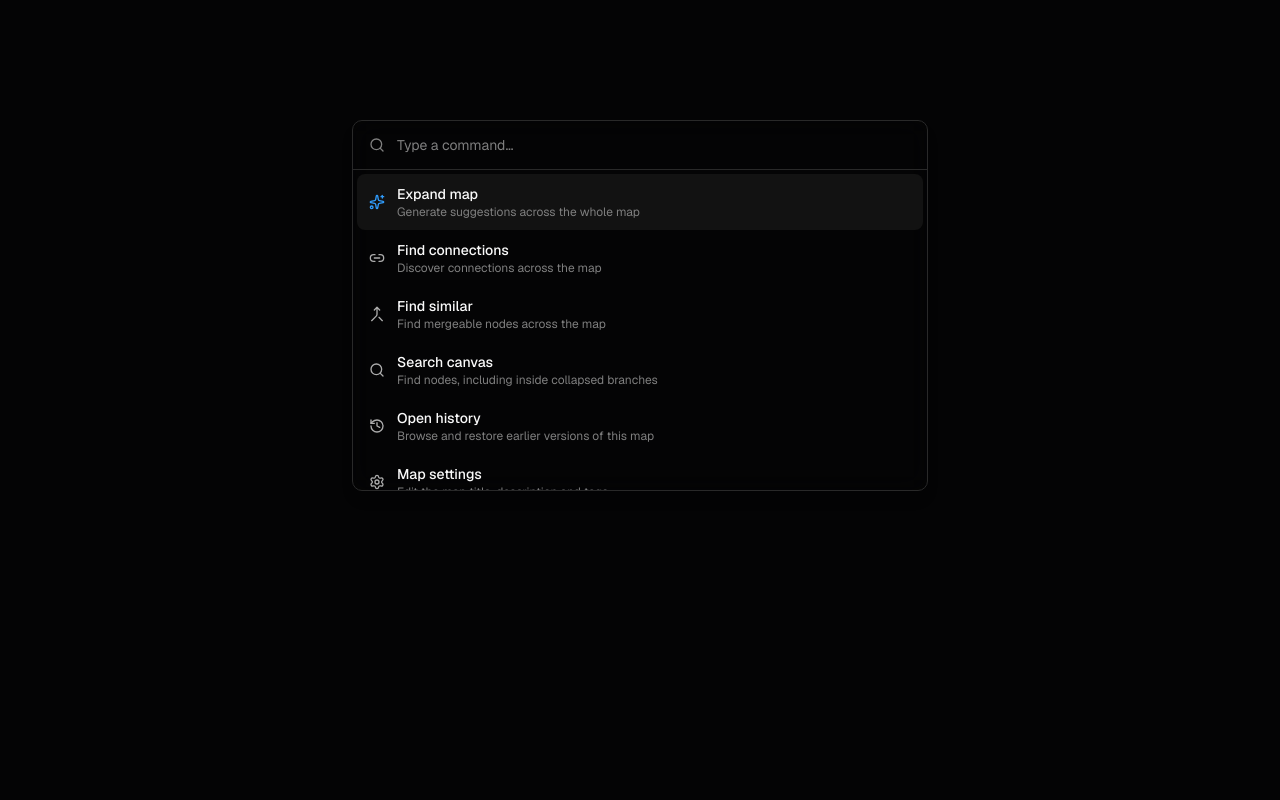
Scenario: CommandPalette › shows an empty state when nothing matches
Type "zzz" into the dropdown at (654, 145), box [397, 121, 911, 169]
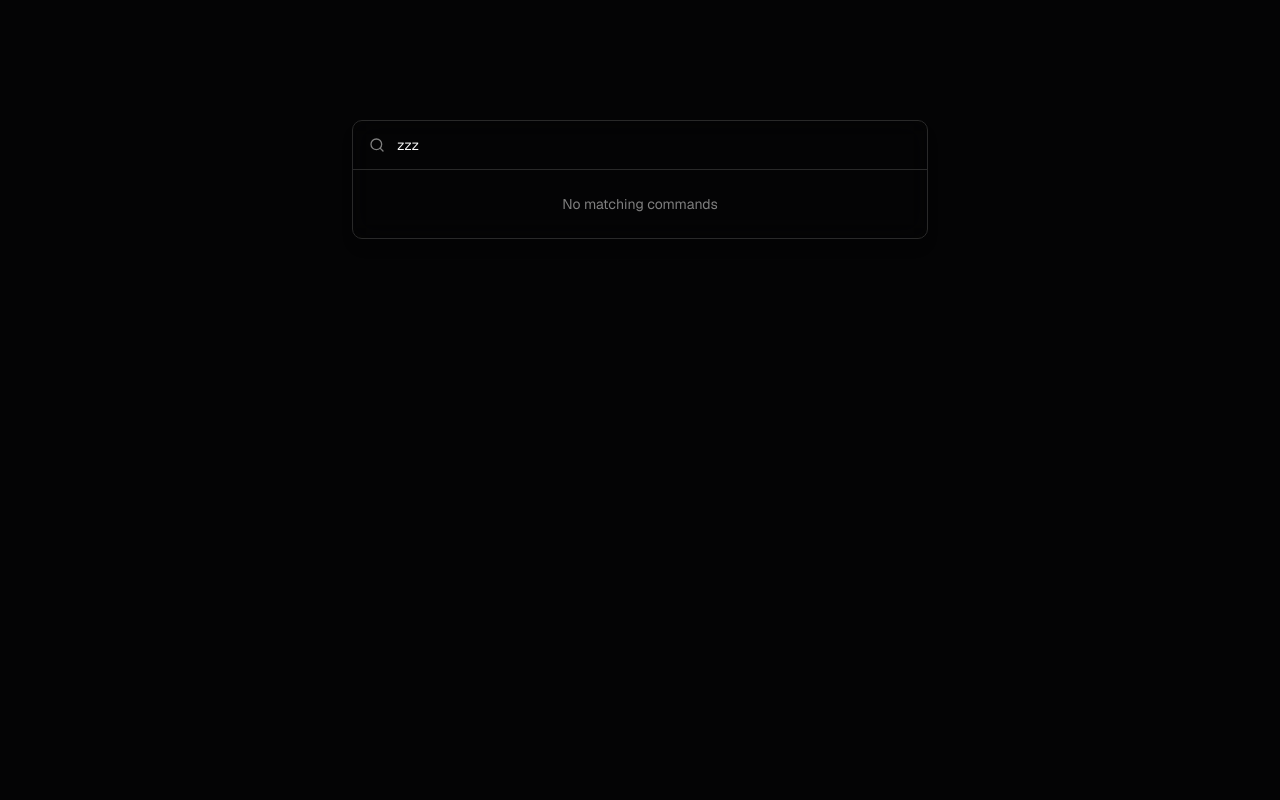
Expected: the text "No matching commands" is shown, [562, 195, 718, 213]
